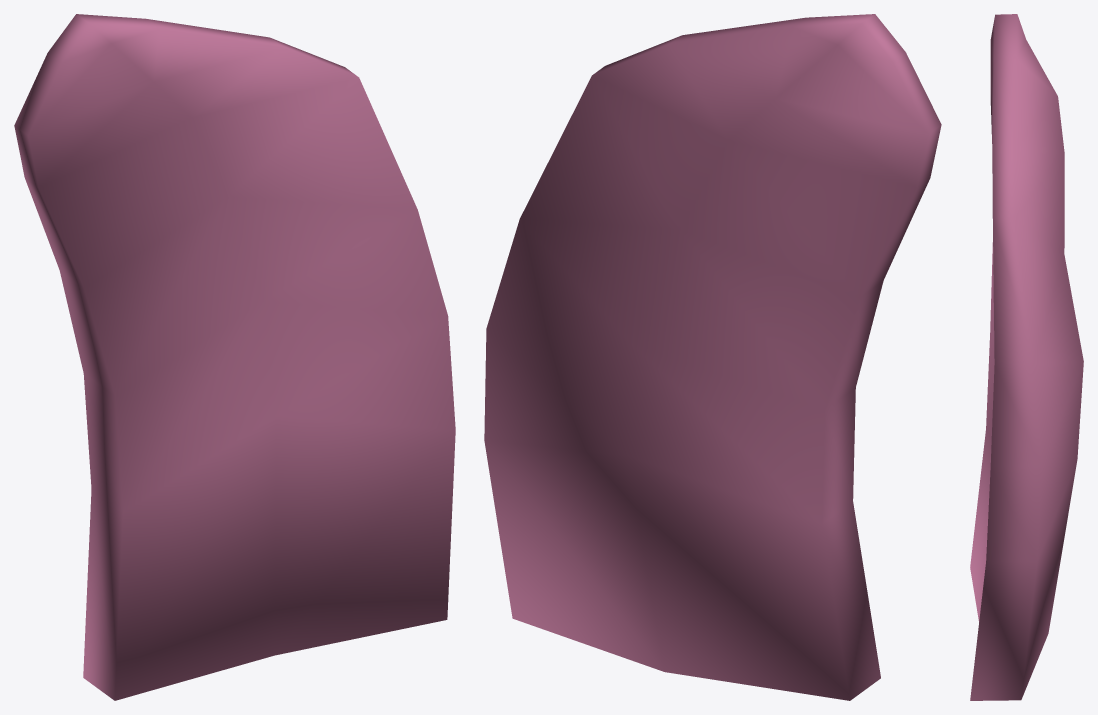
Rendered from grass-22_col.fbx.
3 renders of one model, left to right at view 1: azimuth 30°, elevation 25°; view 2: azimuth 150°, elevation 25°; view 3: azimuth 270°, elevation 25°, orthographic. The views are drawn at different scales.
Visible parts, largest first — view 1: grass-22.col; view 2: grass-22.col; view 3: grass-22.col.
Part boxes in pixels (x1,y1,x2,y2): grass-22.col: (14, 14, 455, 700); grass-22.col: (484, 14, 941, 700); grass-22.col: (970, 14, 1083, 700).
Bounding box in the file's own units: 0.0493 × 0.0743 × 0.0139.
Materials: 1 (1 with a texture image).
